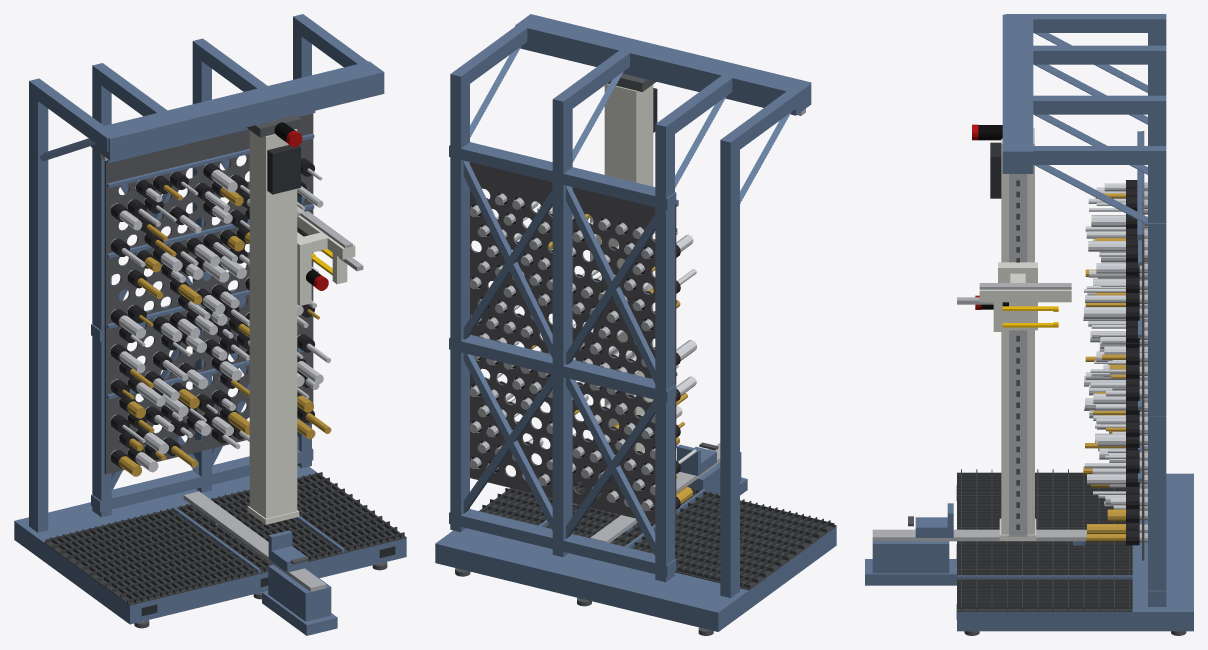
The model's file is tool_wall_magazine_1mod.glb.
3 renders of one model, left to right at view 1: azimuth 30°, elevation 25°; view 2: azimuth 150°, elevation 25°; view 3: azimuth 270°, elevation 25°, orthographic. The views are drawn at different scales.
Visible parts, largest first — view 1: twm_frame__mcm_blue, twm_base__grating, twm_frame__anthracite_lt, mag_loader__struct_grey, twm_tools__holder, twm_tools__tool_bright, twm_base__mcm_blue, twm_tools__tool_gold, twm_load_station__mcm_blue, twm_load_station__steel, mag_loader_z__struct_grey, mag_loader__anthracite (+3 smaller); view 2: twm_frame__mcm_blue, twm_frame__anthracite_lt, twm_base__mcm_blue, twm_base__grating, twm_tools__steel, mag_loader__struct_grey, twm_tools__holder, twm_tools__tool_bright, twm_load_station__steel, mag_load_drawer__mcm_blue, twm_load_station__mcm_blue; view 3: twm_frame__mcm_blue, twm_base__grating, twm_base__mcm_blue, twm_tools__tool_bright, mag_loader__steel, mag_loader__struct_grey, twm_tools__holder, twm_load_station__mcm_blue, mag_loader_z__struct_grey, twm_tools__tool_gold, twm_tools__steel, twm_load_station__steel (+6 smaller).
Boxes of the visible parts, <box> form: twm_frame__mcm_blue: <box>29,14,384,532</box>; twm_base__grating: <box>44,472,406,605</box>; twm_frame__anthracite_lt: <box>104,113,313,474</box>; mag_loader__struct_grey: <box>247,129,299,524</box>; twm_tools__holder: <box>110,158,314,468</box>; twm_tools__tool_bright: <box>119,168,330,472</box>; twm_base__mcm_blue: <box>14,465,406,624</box>; twm_tools__tool_gold: <box>119,185,331,476</box>; twm_load_station__mcm_blue: <box>209,518,337,635</box>; twm_load_station__steel: <box>183,491,326,591</box>; mag_loader_z__struct_grey: <box>297,215,355,305</box>; mag_loader__anthracite: <box>267,145,300,194</box>; twm_frame__mcm_blue: <box>449,14,811,597</box>; twm_frame__anthracite_lt: <box>470,162,676,527</box>; twm_base__mcm_blue: <box>435,486,836,631</box>; twm_base__grating: <box>479,473,836,590</box>; twm_tools__steel: <box>469,193,655,511</box>; mag_loader__struct_grey: <box>604,83,653,479</box>; twm_tools__holder: <box>471,193,680,509</box>; twm_tools__tool_bright: <box>488,198,696,468</box>; twm_load_station__steel: <box>590,443,720,542</box>; mag_load_drawer__mcm_blue: <box>677,444,716,475</box>; twm_load_station__mcm_blue: <box>624,449,747,533</box>; twm_frame__mcm_blue: <box>1002,14,1166,606</box>; twm_base__grating: <box>957,469,1132,611</box>; twm_base__mcm_blue: <box>957,473,1193,631</box>; twm_tools__tool_bright: <box>1083,183,1125,509</box>; mag_loader__steel: <box>1009,174,1027,536</box>; mag_loader__struct_grey: <box>999,128,1036,540</box>; twm_tools__holder: <box>1126,180,1139,545</box>; twm_load_station__mcm_blue: <box>865,541,1085,585</box>; mag_loader_z__struct_grey: <box>979,262,1071,330</box>; twm_tools__tool_gold: <box>1083,193,1125,541</box>; twm_tools__steel: <box>1139,182,1147,542</box>; twm_load_station__steel: <box>872,529,1086,541</box>.
Bounding box in the file's own units: 2.14 × 3.54 × 2.15.
